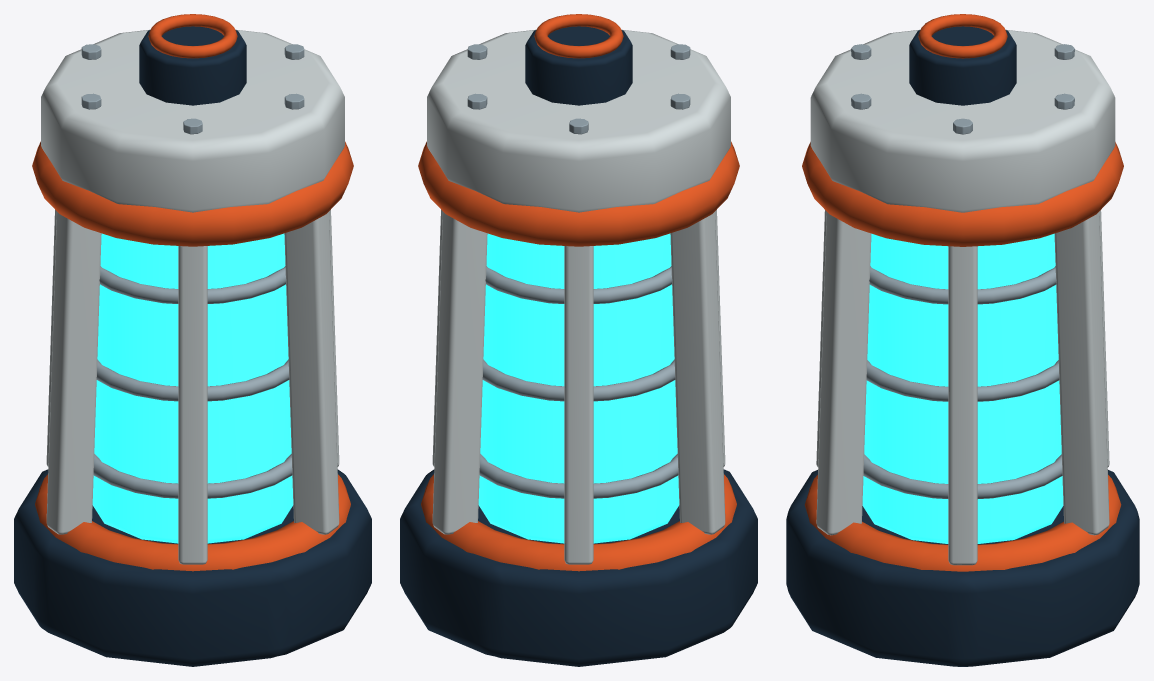
The model's file is flux_energy_core.glb.
The picture shows the model from 3 angles, left to right: view 1: azimuth 30°, elevation 25°; view 2: azimuth 150°, elevation 25°; view 3: azimuth 270°, elevation 25°; orthographic projection.
Parts seen in each view (by area): view 1: Inner charged cell, Upper docking cap, Protective lower shoe, Protective cage strut 3, Protective cage strut 5, Orange locking band 1.07, Protective cage strut 4, Orange locking band 0.22, Top connector, Charge field band 0.38, Charge field band 0.62, Charge field band 0.86 (+3 smaller); view 2: Inner charged cell, Upper docking cap, Protective lower shoe, Protective cage strut 1, Protective cage strut 3, Orange locking band 1.07, Protective cage strut 2, Orange locking band 0.22, Top connector, Charge field band 0.38, Charge field band 0.62, Charge field band 0.86 (+3 smaller); view 3: Inner charged cell, Upper docking cap, Protective lower shoe, Protective cage strut 1, Protective cage strut 5, Orange locking band 1.07, Protective cage strut 0, Orange locking band 0.22, Top connector, Charge field band 0.38, Charge field band 0.62, Charge field band 0.86 (+3 smaller).
Boxes of the visible parts, left/top/right/bottom form: Inner charged cell: left=92, top=233, right=293, bottom=543; Upper docking cap: left=41, top=29, right=344, bottom=212; Protective lower shoe: left=14, top=469, right=371, bottom=666; Protective cage strut 3: left=46, top=211, right=101, bottom=534; Protective cage strut 5: left=284, top=211, right=339, bottom=534; Orange locking band 1.07: left=32, top=141, right=353, bottom=246; Protective cage strut 4: left=178, top=246, right=207, bottom=564; Orange locking band 0.22: left=35, top=474, right=350, bottom=571; Top connector: left=139, top=26, right=246, bottom=105; Charge field band 0.38: left=93, top=454, right=292, bottom=498; Charge field band 0.62: left=96, top=359, right=289, bottom=401; Charge field band 0.86: left=99, top=266, right=286, bottom=303; Inner charged cell: left=478, top=233, right=679, bottom=543; Upper docking cap: left=427, top=29, right=730, bottom=212; Protective lower shoe: left=400, top=469, right=757, bottom=666; Protective cage strut 1: left=432, top=211, right=487, bottom=534; Protective cage strut 3: left=670, top=211, right=725, bottom=534; Orange locking band 1.07: left=418, top=141, right=739, bottom=246; Protective cage strut 2: left=564, top=246, right=593, bottom=564; Orange locking band 0.22: left=421, top=474, right=736, bottom=571; Top connector: left=525, top=26, right=632, bottom=105; Charge field band 0.38: left=479, top=454, right=678, bottom=498; Charge field band 0.62: left=482, top=359, right=675, bottom=401; Charge field band 0.86: left=485, top=266, right=672, bottom=303; Inner charged cell: left=862, top=233, right=1063, bottom=543; Upper docking cap: left=810, top=29, right=1115, bottom=212; Protective lower shoe: left=786, top=470, right=1139, bottom=666; Protective cage strut 1: left=1054, top=212, right=1109, bottom=535; Protective cage strut 5: left=816, top=212, right=871, bottom=535; Orange locking band 1.07: left=802, top=142, right=1123, bottom=246; Protective cage strut 0: left=948, top=246, right=977, bottom=565; Orange locking band 0.22: left=804, top=475, right=1121, bottom=571; Top connector: left=909, top=26, right=1016, bottom=105; Charge field band 0.38: left=863, top=454, right=1062, bottom=498; Charge field band 0.62: left=866, top=360, right=1059, bottom=401; Charge field band 0.86: left=869, top=266, right=1056, bottom=304.
Size of the model in its own units: 0.7894 by 1.4 by 0.7894.
